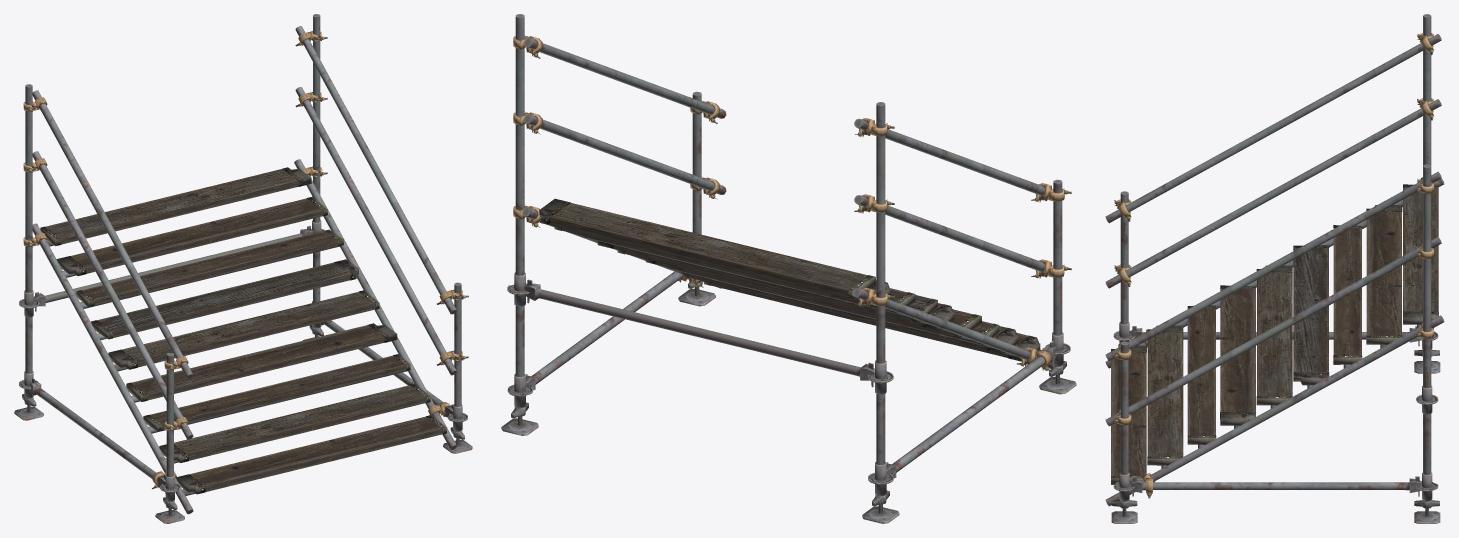
The model's file is improvised_walkway_225x150_stairs_a.glb.
The picture shows the model from 3 angles, left to right: view 1: azimuth 30°, elevation 25°; view 2: azimuth 150°, elevation 25°; view 3: azimuth 270°, elevation 25°; orthographic projection. The views are drawn at different scales.
Parts seen in each view (by area): view 1: improvised_walkway_225x150_stairs_a; view 2: improvised_walkway_225x150_stairs_a; view 3: improvised_walkway_225x150_stairs_a.
Boxes of the visible parts, x1,y1,x2,y2 form: improvised_walkway_225x150_stairs_a: (14, 14, 472, 523); improvised_walkway_225x150_stairs_a: (501, 14, 1076, 523); improvised_walkway_225x150_stairs_a: (1105, 14, 1444, 523).
Size of the model in its own units: 2.68 by 2.73 by 2.38.
1 material, 1 textured.
